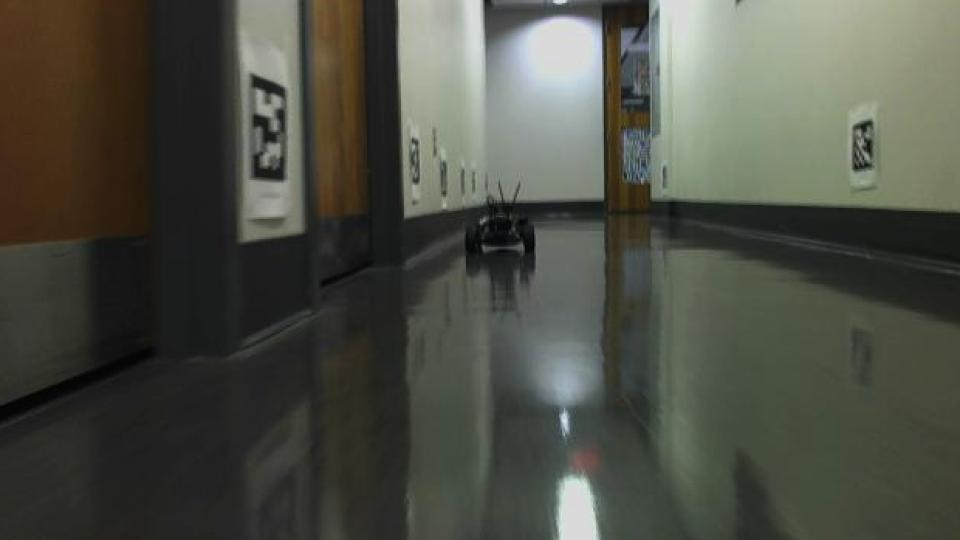car: (463, 177, 540, 261)
